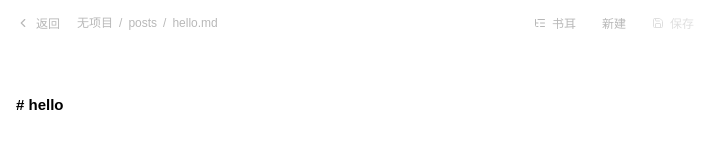
Test: 统一编辑页渲染冒烟 › 点文件名原地变输入框，Enter 提交 renameDoc，Esc 取消
This screenshot has width=711, height=160.
Click the button "hello.md" at (195, 22), box [168, 12, 222, 32]
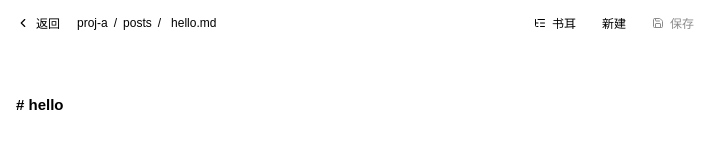
Replace the text in the field named "重命名文档" with "world.md" at (257, 22), box [167, 14, 347, 30]
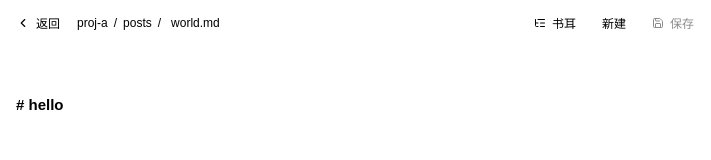
Press Enter in the field named "重命名文档", box [167, 14, 347, 30]
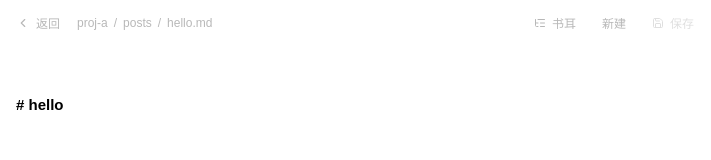
Check: the field labelled "重命名文档" is gone
Click the button "hello.md" at (190, 22), box [163, 12, 216, 32]
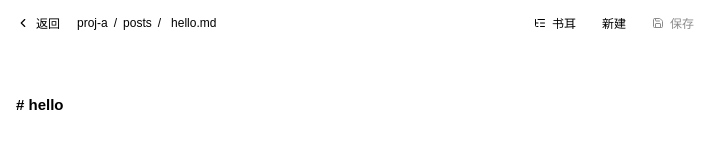
Replace the text in the field named "重命名文档" with "other.md" at (257, 22), box [167, 14, 347, 30]
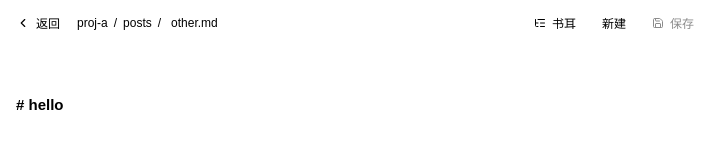
Press Escape in the field named "重命名文档", box [167, 14, 347, 30]
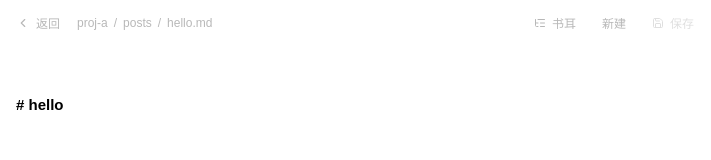
Check: the field labelled "重命名文档" is gone
